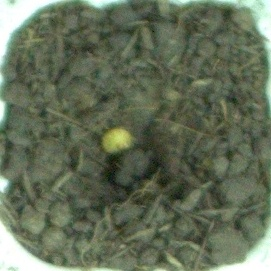chilli seed: (99, 127, 138, 155)
